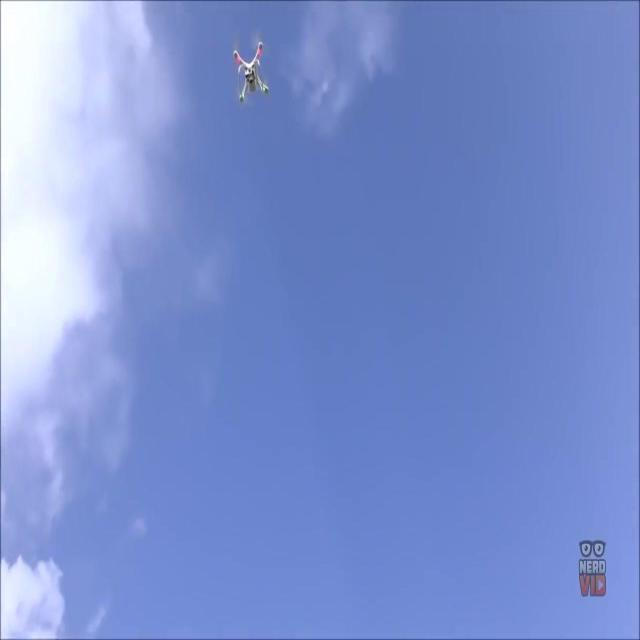drone: (233, 41, 271, 107)
